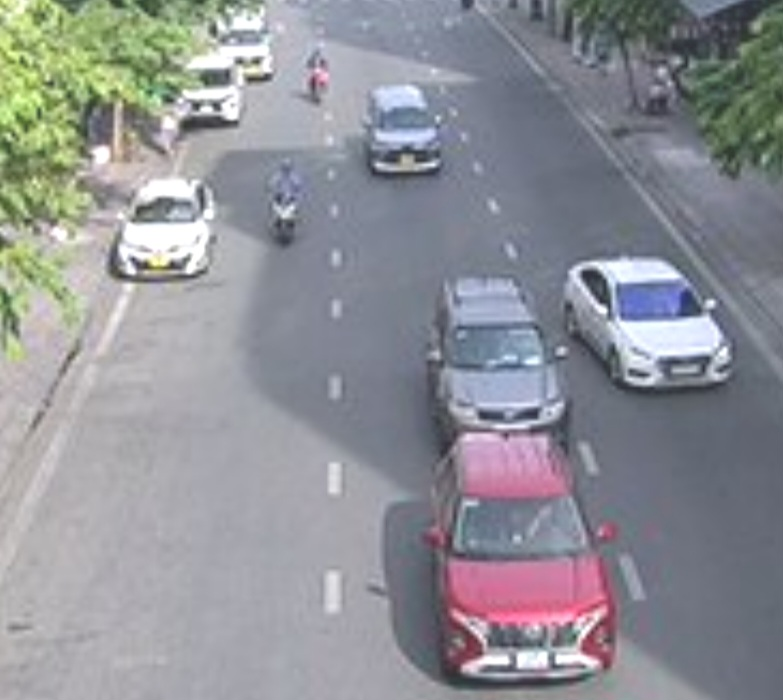car: (431, 433, 619, 683), (562, 250, 740, 390), (419, 278, 575, 436), (111, 174, 220, 276), (357, 81, 448, 177), (174, 60, 248, 128)
